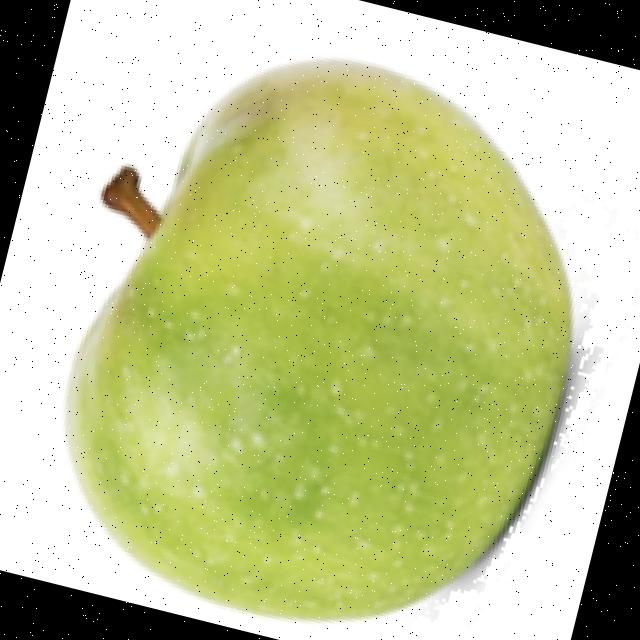apple: (59, 51, 604, 624)
